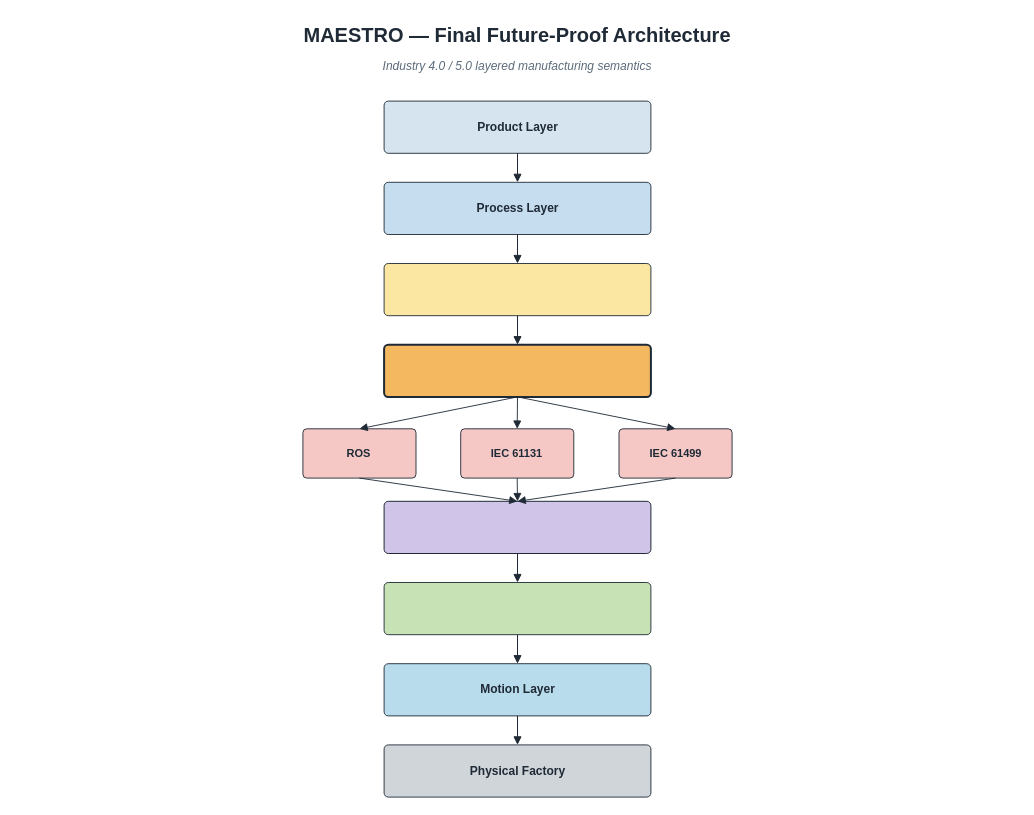
This 1034x815 diagram has some shape labels left out. The centre of each missing label's shape, as x and y in pixels:
Capability Layer: the point at 517,289
OPC UA Layer: the point at 517,527
Resource Layer: the point at 517,608
Skill Layer: the point at 517,370
